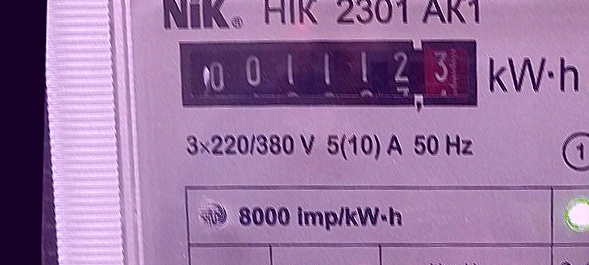0: (242, 50, 265, 89), (206, 56, 229, 92)
1: (281, 48, 300, 86), (319, 48, 334, 86), (357, 47, 372, 84)
2: (390, 48, 413, 84)
3: (431, 48, 450, 83)
screen: (172, 28, 486, 117)
